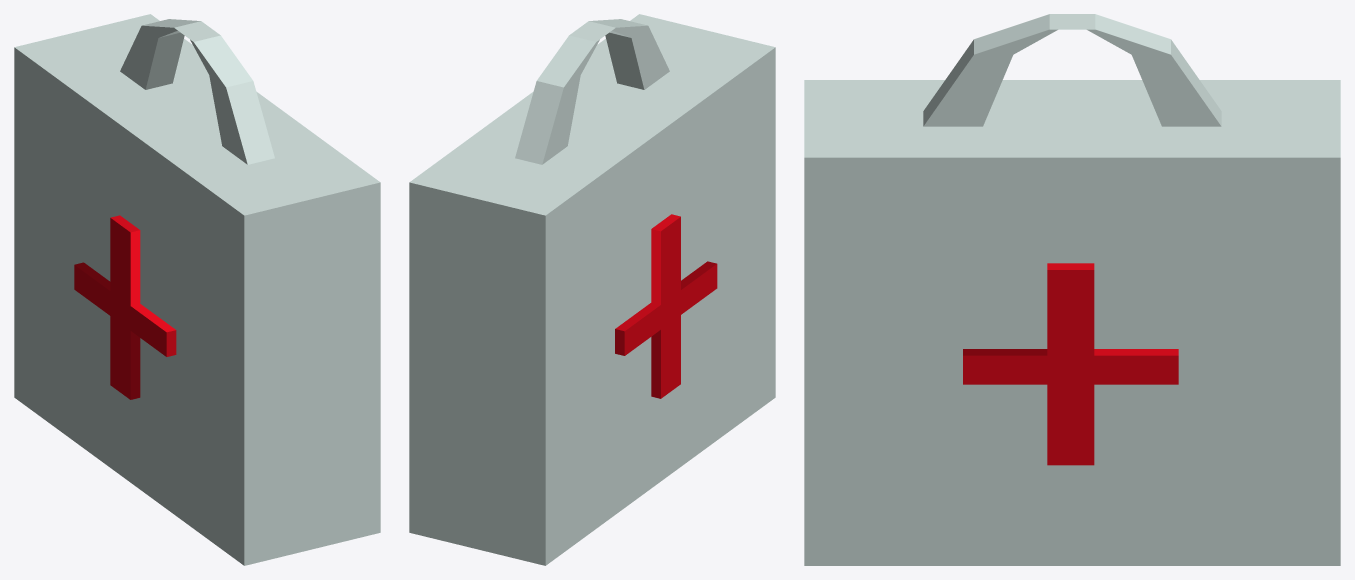
Rendered from healthpack.gltf.
3 renders of one model, left to right at view 1: azimuth 30°, elevation 25°; view 2: azimuth 150°, elevation 25°; view 3: azimuth 270°, elevation 25°, orthographic. The views are drawn at different scales.
Visible parts, largest first — view 1: Cube; view 2: Cube; view 3: Cube.
Part boxes in pixels (x1,y1,x2,y2): Cube: [14, 14, 380, 565]; Cube: [409, 14, 775, 565]; Cube: [804, 14, 1340, 565].
Bounding box in the file's own units: 0.7919 × 2.08 × 2.
